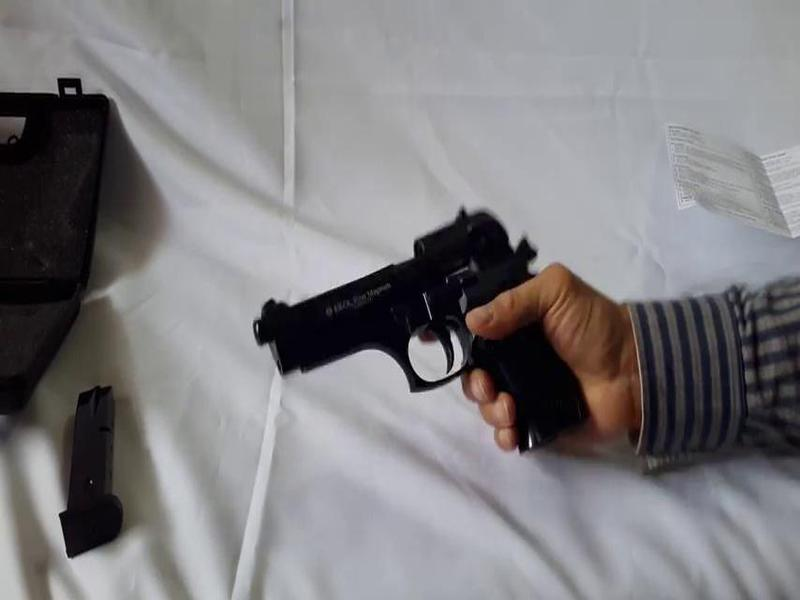Pistola: (242, 211, 604, 470)
